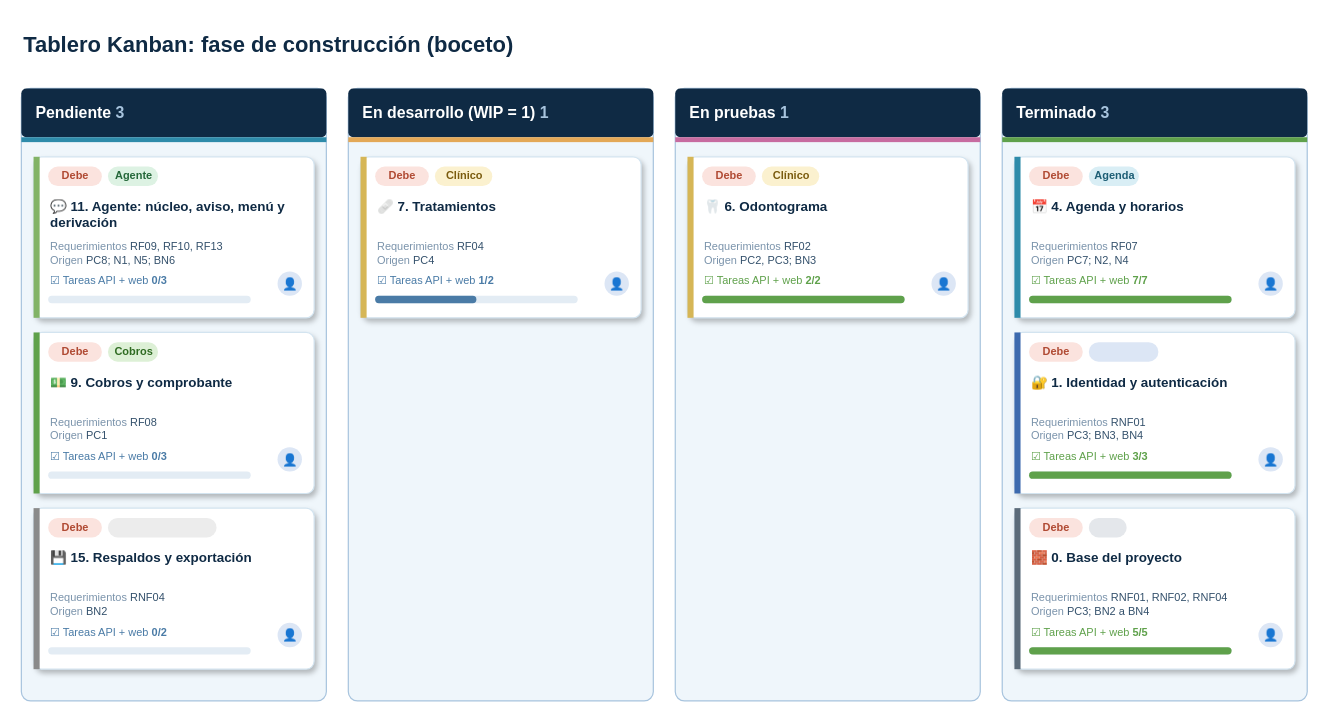
Some shapes in this 1329 by 722 pixel diagram are drawn without their labels. Here are the shapes that lost their labels. From the top down, the centre of each, then its label:
(x=1123, y=351): Identidad
(x=161, y=527): Infraestructura
(x=1107, y=527): Base
